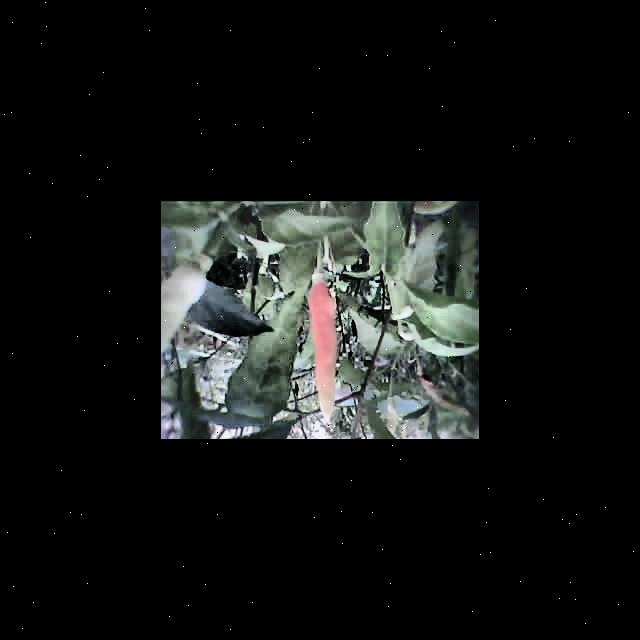Cabai: (310, 277, 340, 422)
